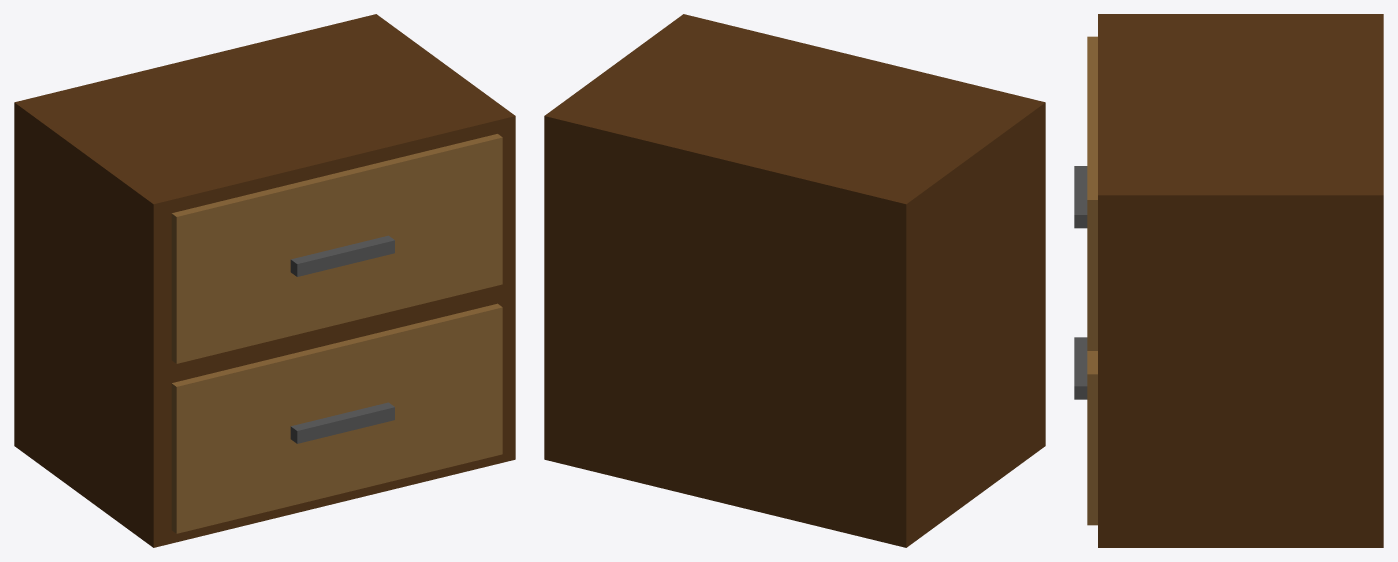
File: Bedroom_Nightstand_2.fbx
3 renders of one model, left to right at view 1: azimuth 30°, elevation 25°; view 2: azimuth 150°, elevation 25°; view 3: azimuth 270°, elevation 25°, orthographic. The views are drawn at different scales.
Parts seen in each view (by area): view 1: Bedroom_Nightstand_2; view 2: Bedroom_Nightstand_2; view 3: Bedroom_Nightstand_2.
Boxes of the visible parts, bbox=[...] form: Bedroom_Nightstand_2: bbox=[14, 14, 515, 547]; Bedroom_Nightstand_2: bbox=[544, 14, 1045, 547]; Bedroom_Nightstand_2: bbox=[1074, 14, 1383, 547].
Size of the model in its own units: 88.21 by 63.64 by 80.
